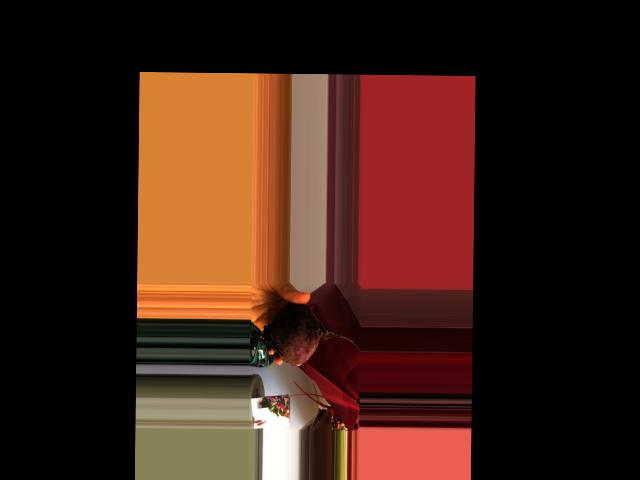beet: (249, 303, 360, 366)
